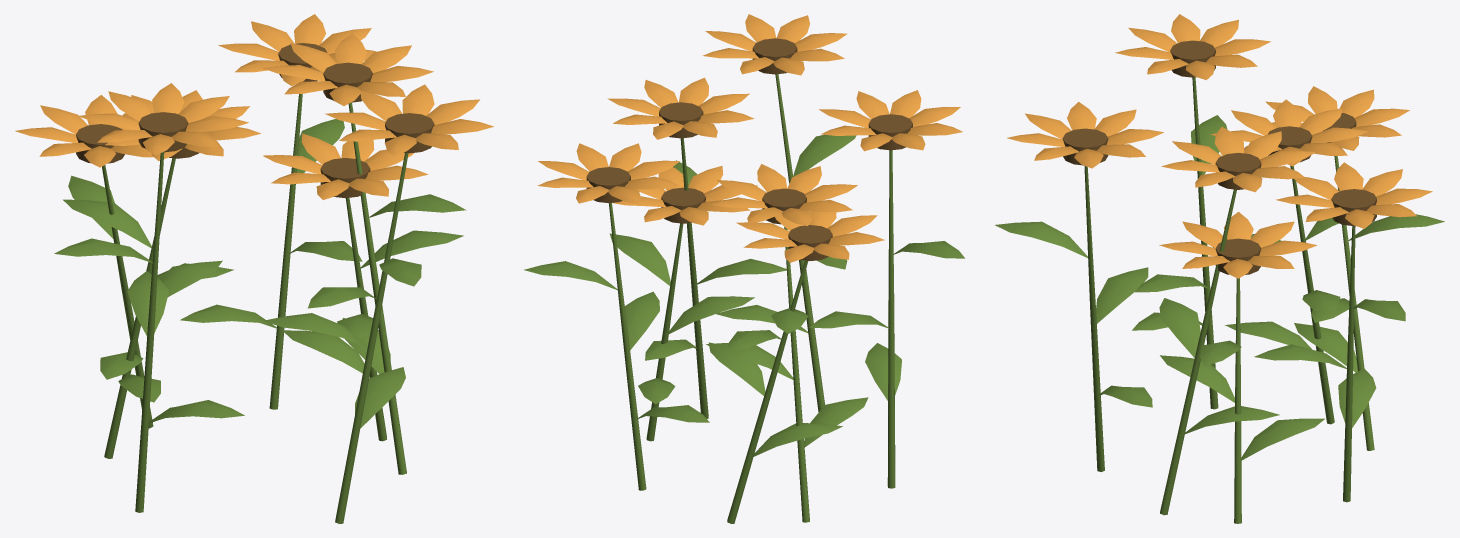
Rendered from flower-amber-045.glb.
The picture shows the model from 3 angles, left to right: view 1: azimuth 30°, elevation 25°; view 2: azimuth 150°, elevation 25°; view 3: azimuth 270°, elevation 25°; orthographic projection. The views are drawn at different scales.
Visible parts, largest first — view 1: flower-amber-045 / N06 / olive leaf mid, flower-amber-045 / N14 / amber flower petals, flower-amber-045 / N16 / dark pollen; view 2: flower-amber-045 / N06 / olive leaf mid, flower-amber-045 / N14 / amber flower petals, flower-amber-045 / N16 / dark pollen; view 3: flower-amber-045 / N06 / olive leaf mid, flower-amber-045 / N14 / amber flower petals, flower-amber-045 / N16 / dark pollen.
Boxes of the visible parts, x1,y1,x2,y2 form: flower-amber-045 / N06 / olive leaf mid: (54, 94, 466, 523); flower-amber-045 / N14 / amber flower petals: (15, 14, 493, 199); flower-amber-045 / N16 / dark pollen: (76, 43, 434, 198); flower-amber-045 / N06 / olive leaf mid: (524, 74, 964, 523); flower-amber-045 / N14 / amber flower petals: (537, 14, 962, 262); flower-amber-045 / N16 / dark pollen: (586, 38, 912, 260); flower-amber-045 / N06 / olive leaf mid: (995, 77, 1444, 523); flower-amber-045 / N14 / amber flower petals: (1007, 14, 1432, 278); flower-amber-045 / N16 / dark pollen: (1062, 40, 1376, 274).
Bounding box in the file's own units: 0.5007 × 0.474 × 0.5256.
